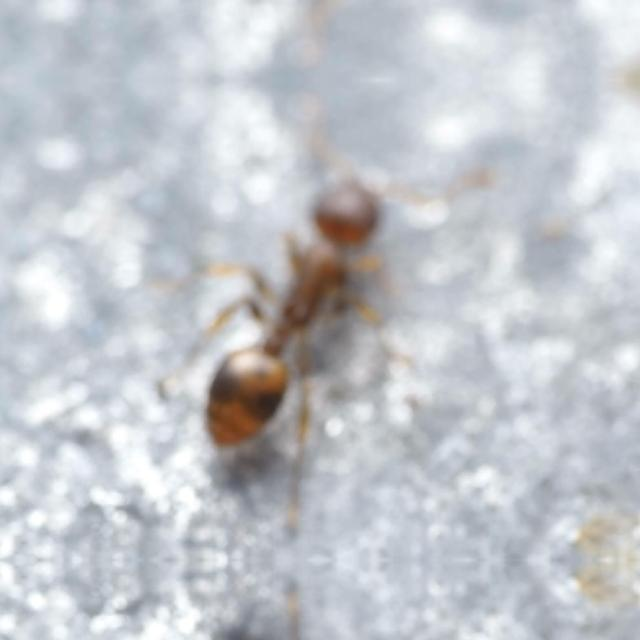Temnothorax: (188, 156, 414, 470)
